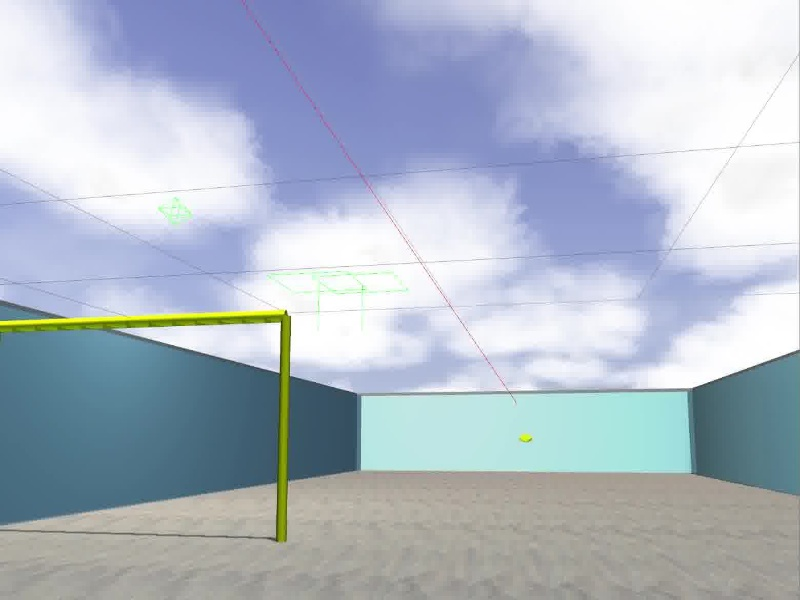gate: (1, 309, 292, 544)
